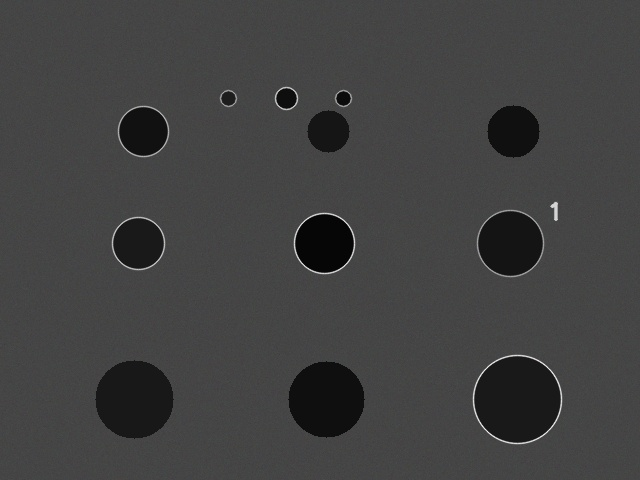hole: (473, 355, 561, 443), (95, 360, 173, 438), (288, 361, 364, 437), (477, 210, 543, 276), (294, 213, 354, 273), (487, 105, 539, 157), (112, 217, 164, 269), (118, 106, 168, 156), (307, 110, 349, 152), (275, 87, 297, 109), (220, 90, 236, 106), (335, 90, 351, 106)
